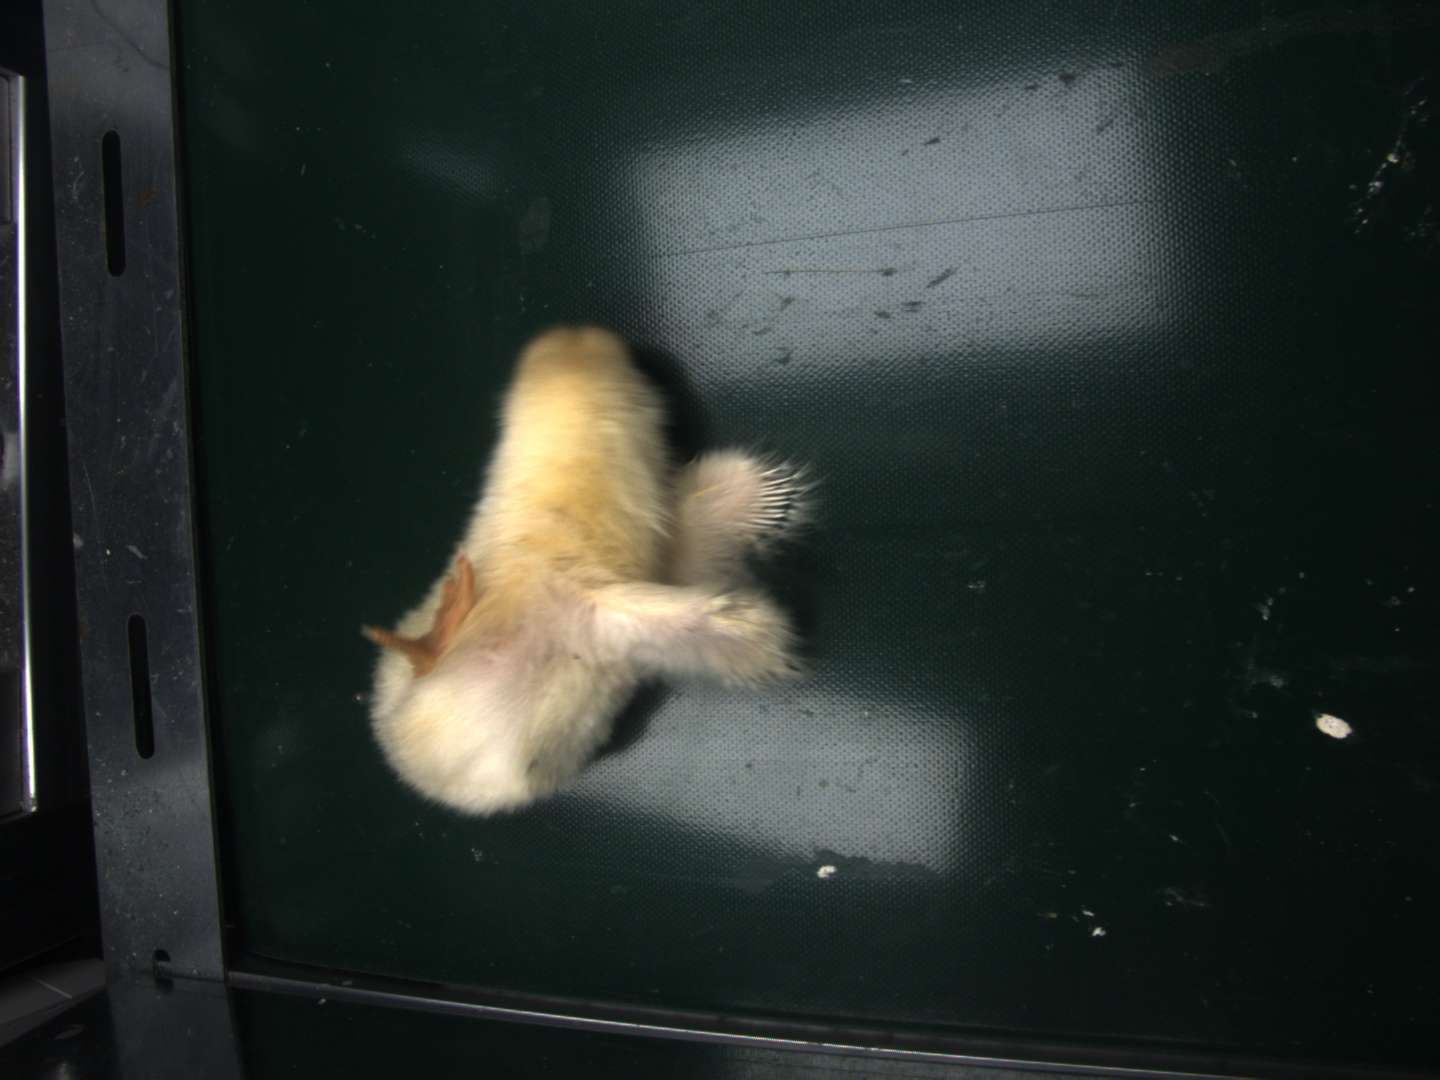male: (746, 462, 806, 539)
